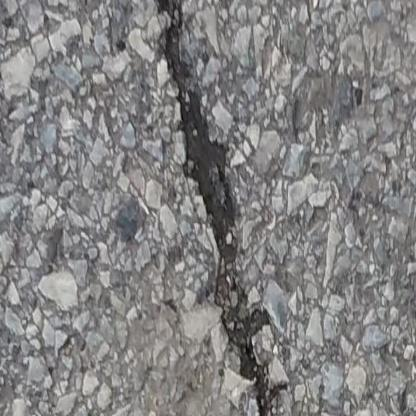Cracks: (140, 0, 290, 416)
